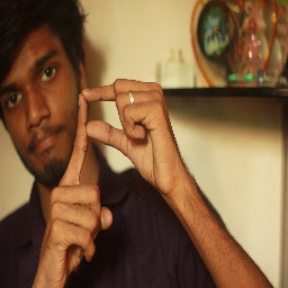P: (40, 72, 169, 235)
